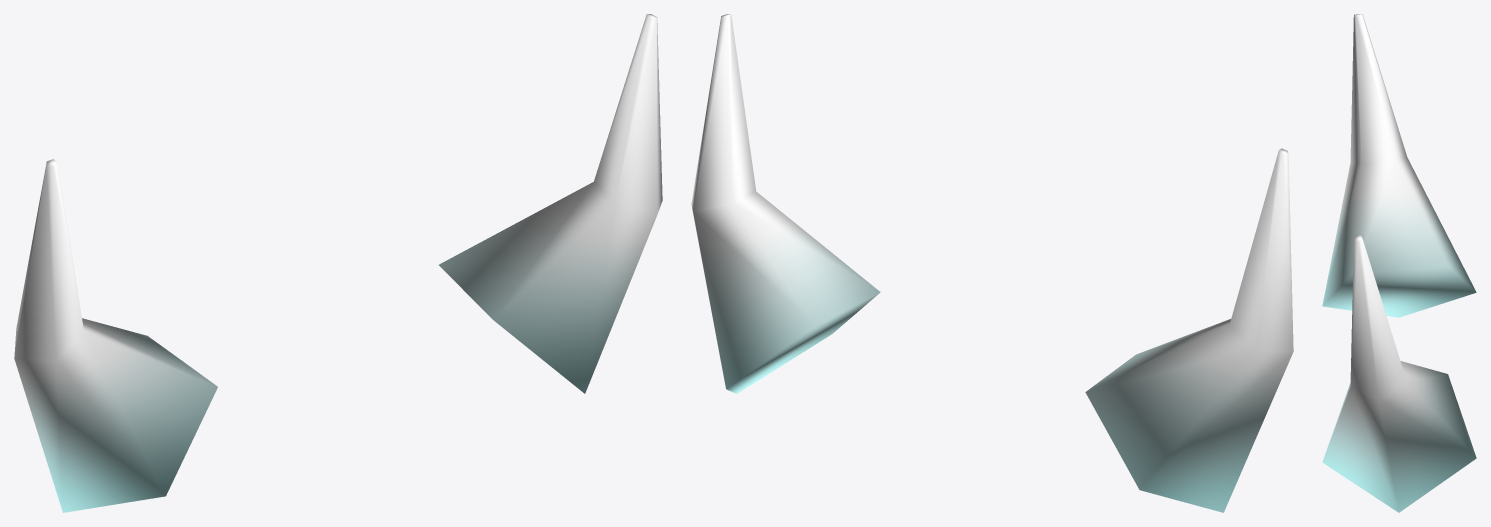
The model's file is horn2.glb.
3 views of the same model, side by side, from view 1: azimuth 30°, elevation 25°; view 2: azimuth 150°, elevation 25°; view 3: azimuth 270°, elevation 25° (orthographic). The views are drawn at different scales.
Parts seen in each view (by area): view 1: Horns.001; view 2: Horns.001; view 3: Horns.001.
Boxes of the visible parts, x1,y1,x2,y2 form: Horns.001: (14, 14, 662, 512); Horns.001: (691, 14, 1293, 512); Horns.001: (1322, 14, 1476, 512).
Size of the model in its own units: 1.79 by 1 by 0.4839.
Materials: 1 (1 with a texture image).
